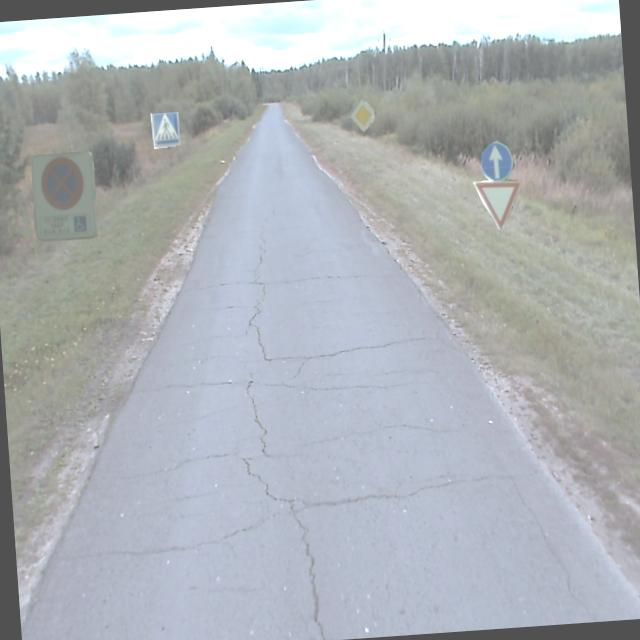road: (21, 104, 640, 640)
